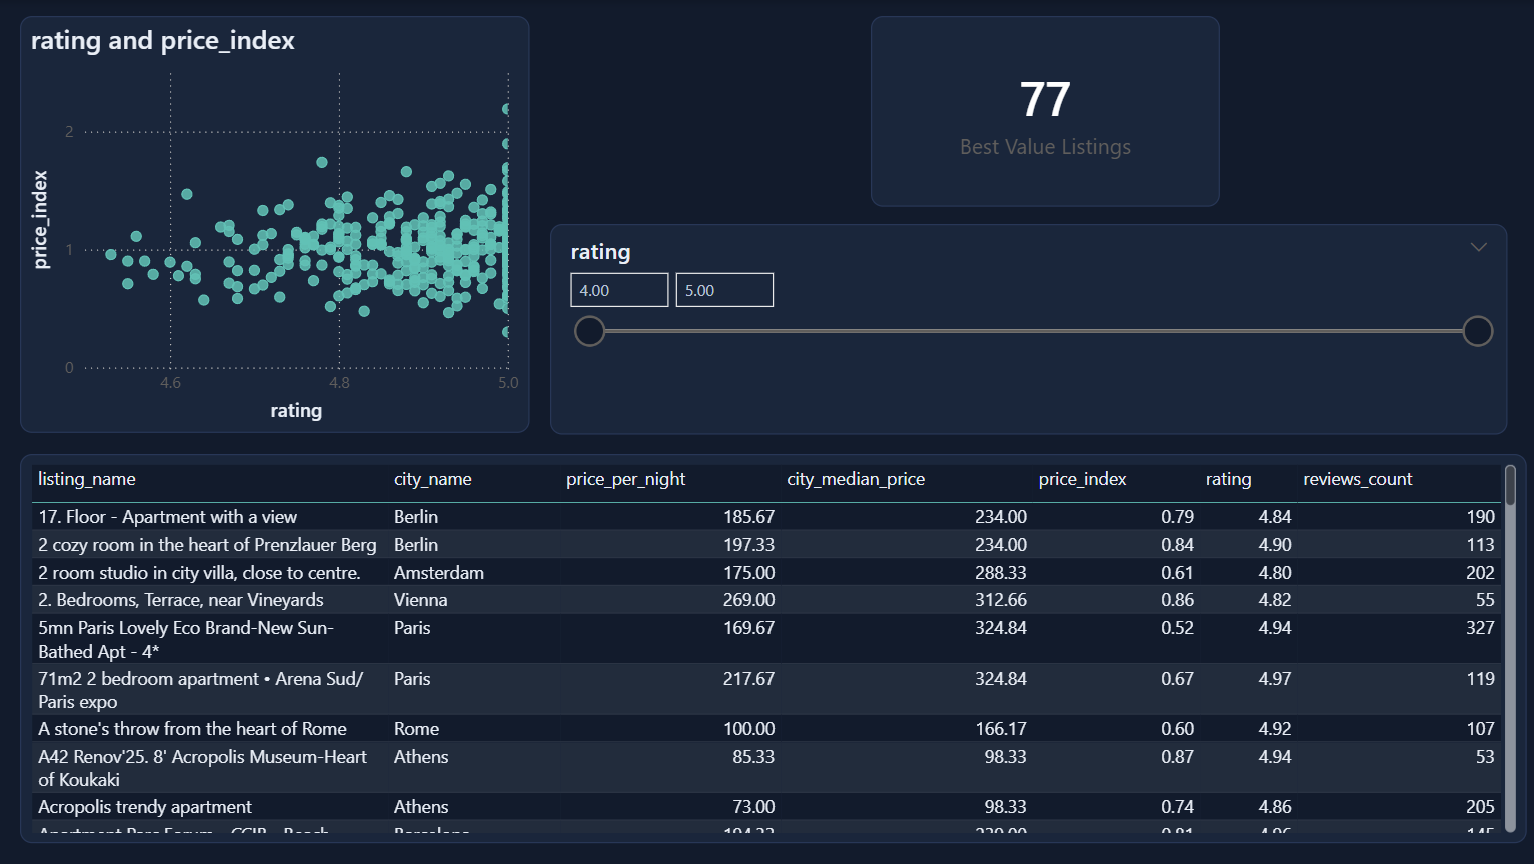

The page's visual inventory and layout, read from the dashboard file:
{"tool":"powerbi","page":{"name":"Value Finder","canvas":[1280,720],"ordinal":2},"visuals":[{"type":"scatterChart","fields":{"X":["gold fact_listing_price.rating"],"Y":["gold fact_listing_price.price_index"]},"box":[20,13.3,423.3,346.7],"z":0},{"type":"tableEx","fields":{"Values":["gold dim_listing.listing_name","gold dim_city.city_name","gold fact_listing_price.price_per_night","gold fact_listing_price.city_median_price","gold fact_listing_price.price_index","gold fact_listing_price.rating","gold fact_listing_price.reviews_count"]},"box":[20,376.7,1251.7,323.3],"z":1000},{"type":"card","fields":{"Values":["gold dim_city.Best Value Listings"]},"box":[711.5,13.3,290.9,157.9],"z":2000},{"type":"slicer","fields":{"Values":["gold fact_listing_price.rating"]},"box":[460,186.7,795,175],"z":3000}]}

Visuals, with their boxes in screenshot pixels (x1, y1, x2, y2), scaled from the page's 1280x720 canvas onto the 1534x864 screenshot:
scatterChart - gold fact_listing_price.rating x gold fact_listing_price.price_index: box=[24, 16, 531, 432]
tableEx - gold dim_listing.listing_name x gold dim_city.city_name: box=[24, 452, 1524, 840]
card - gold dim_city.Best Value Listings: box=[853, 16, 1201, 205]
slicer - gold fact_listing_price.rating: box=[551, 224, 1504, 434]
